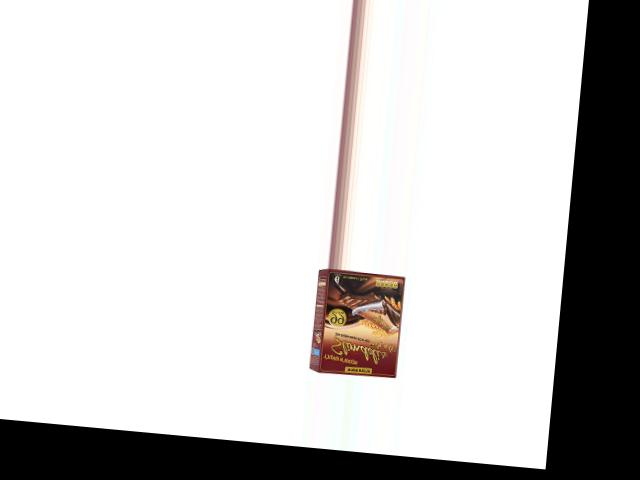chocolate: (303, 266, 415, 381)
